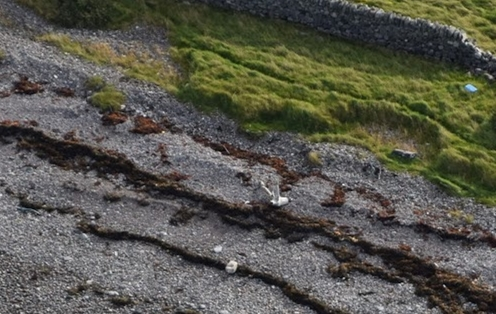scattered_barrel: (198, 231, 253, 282)
white_in_green: (451, 68, 494, 106)
